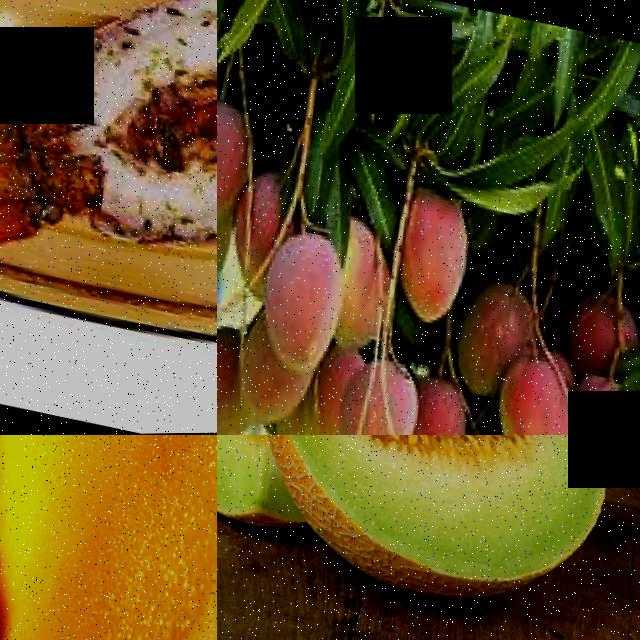lobster tails: (0, 0, 217, 318)
mango: (0, 435, 217, 640), (232, 221, 354, 377), (376, 194, 477, 331), (466, 348, 578, 435), (307, 355, 419, 435), (444, 271, 530, 363), (217, 86, 259, 242), (380, 369, 469, 435), (217, 318, 241, 435)
melon: (252, 435, 624, 633)
